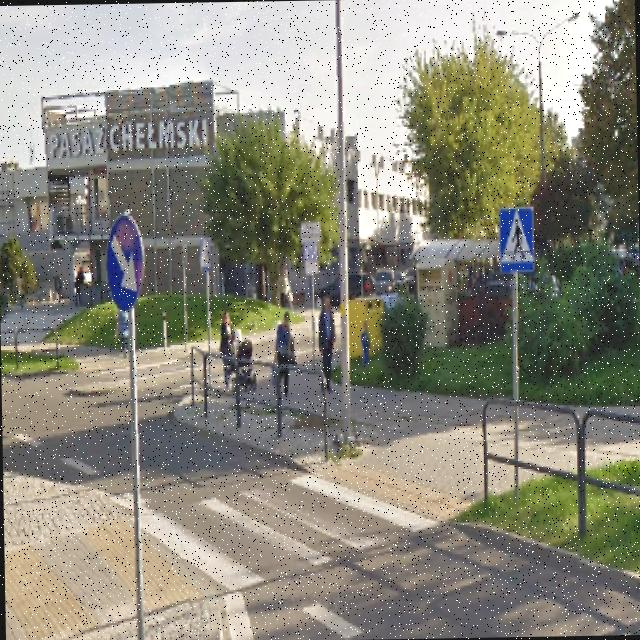Przejscie dla pieszych: (497, 204, 534, 274)
